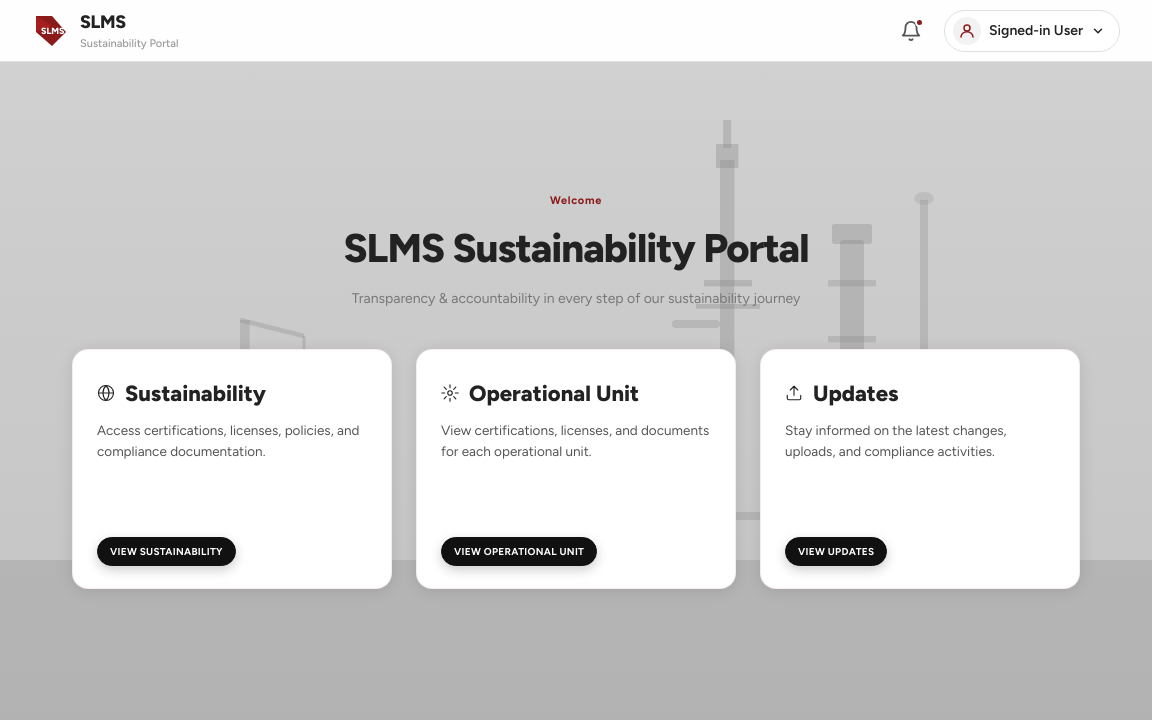
Scenario: SustainabilityPortal › filters document list from search input
Click the heading "Sustainability".
click(196, 393)  # box [125, 377, 266, 410]
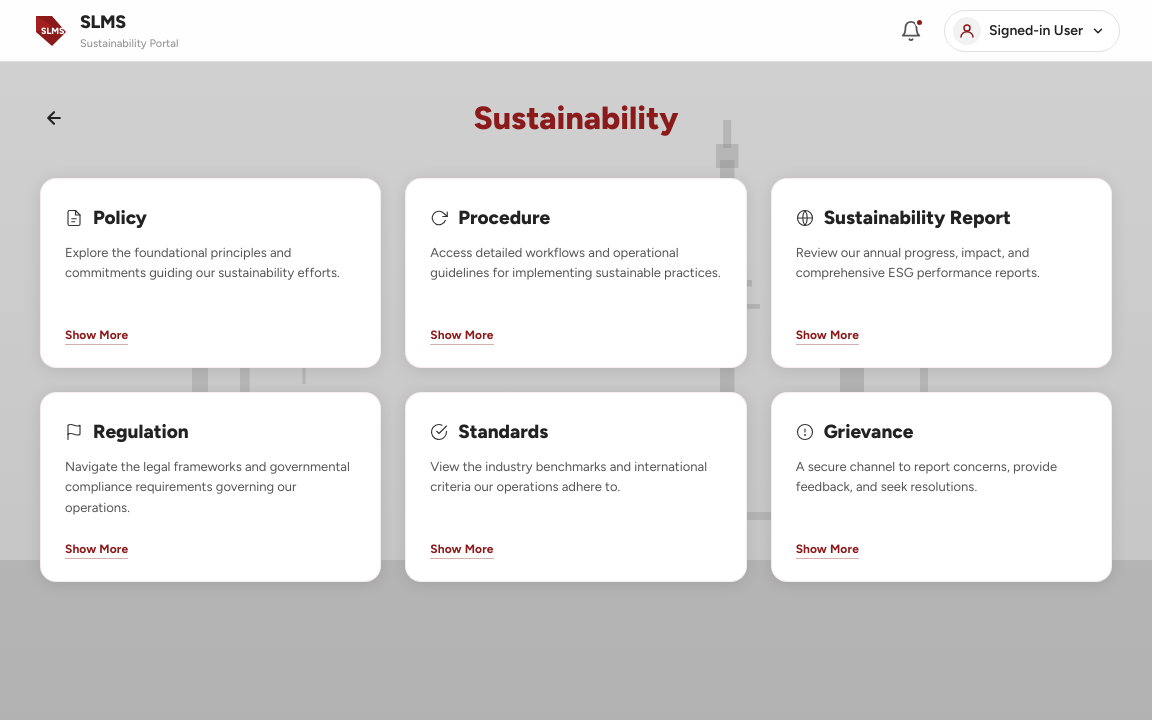
Click the heading "Policy".
click(120, 218)  # box [93, 204, 147, 232]
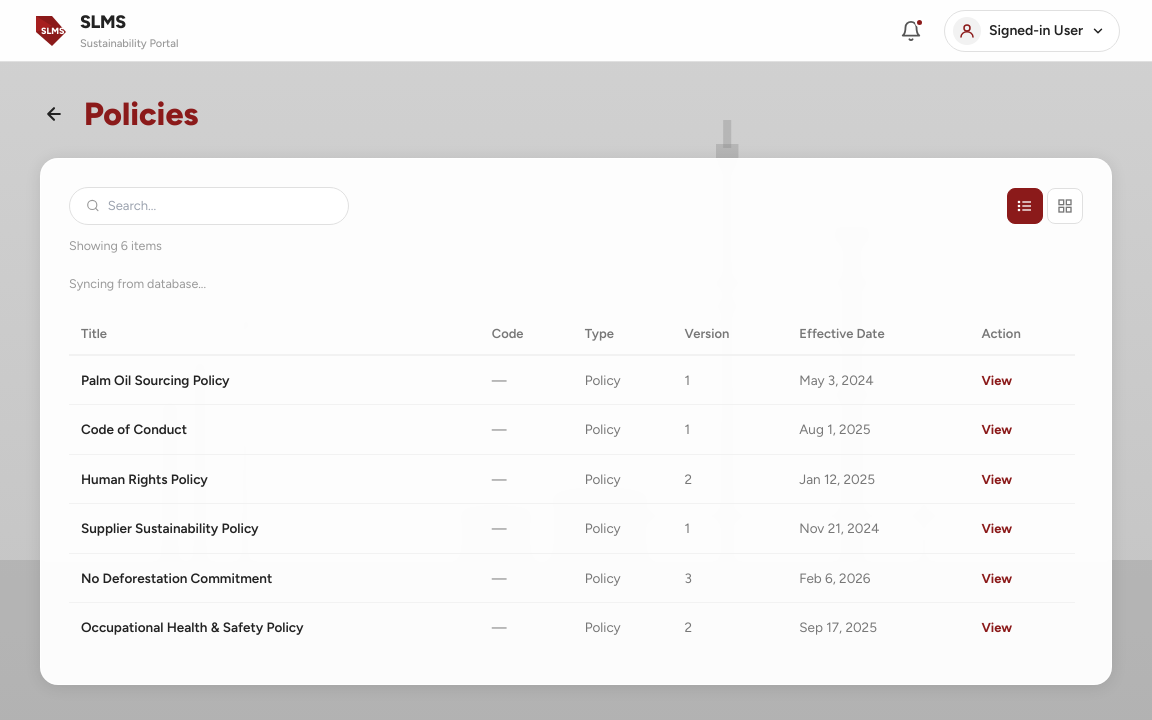
Type "Palm Oil" into the field named "Search documents".
click(220, 206); type("Palm Oil")  # box [108, 196, 332, 216]
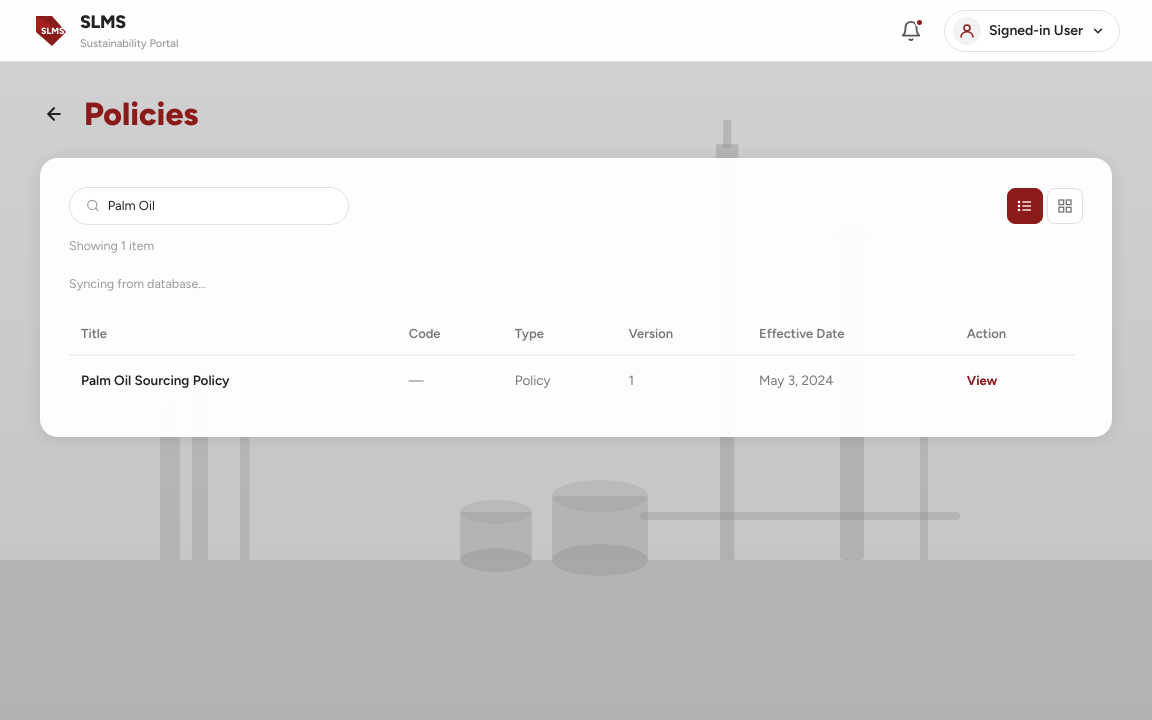
Result: the text "Showing 1 item" is shown at [69, 238, 154, 252]
Replace the text in the field named "Search documents" with "not-found-keyword" at (220, 206), box [108, 196, 332, 216]
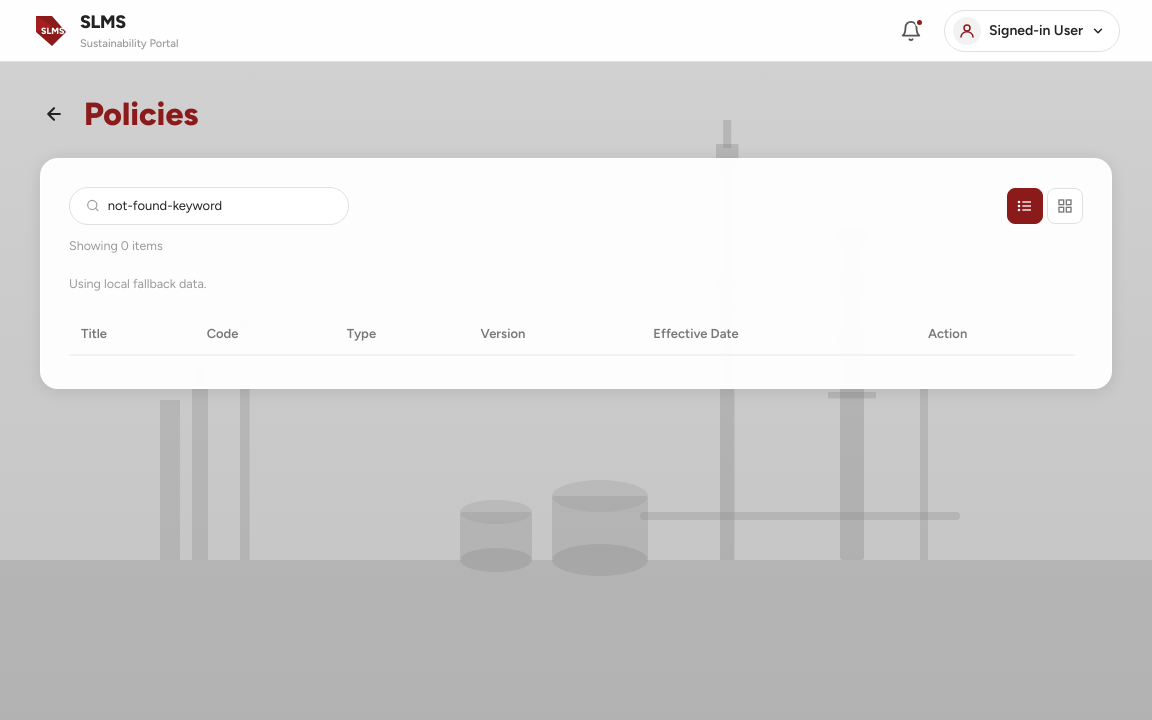
Result: the text "Showing 0 items" is shown at [69, 238, 163, 252]
